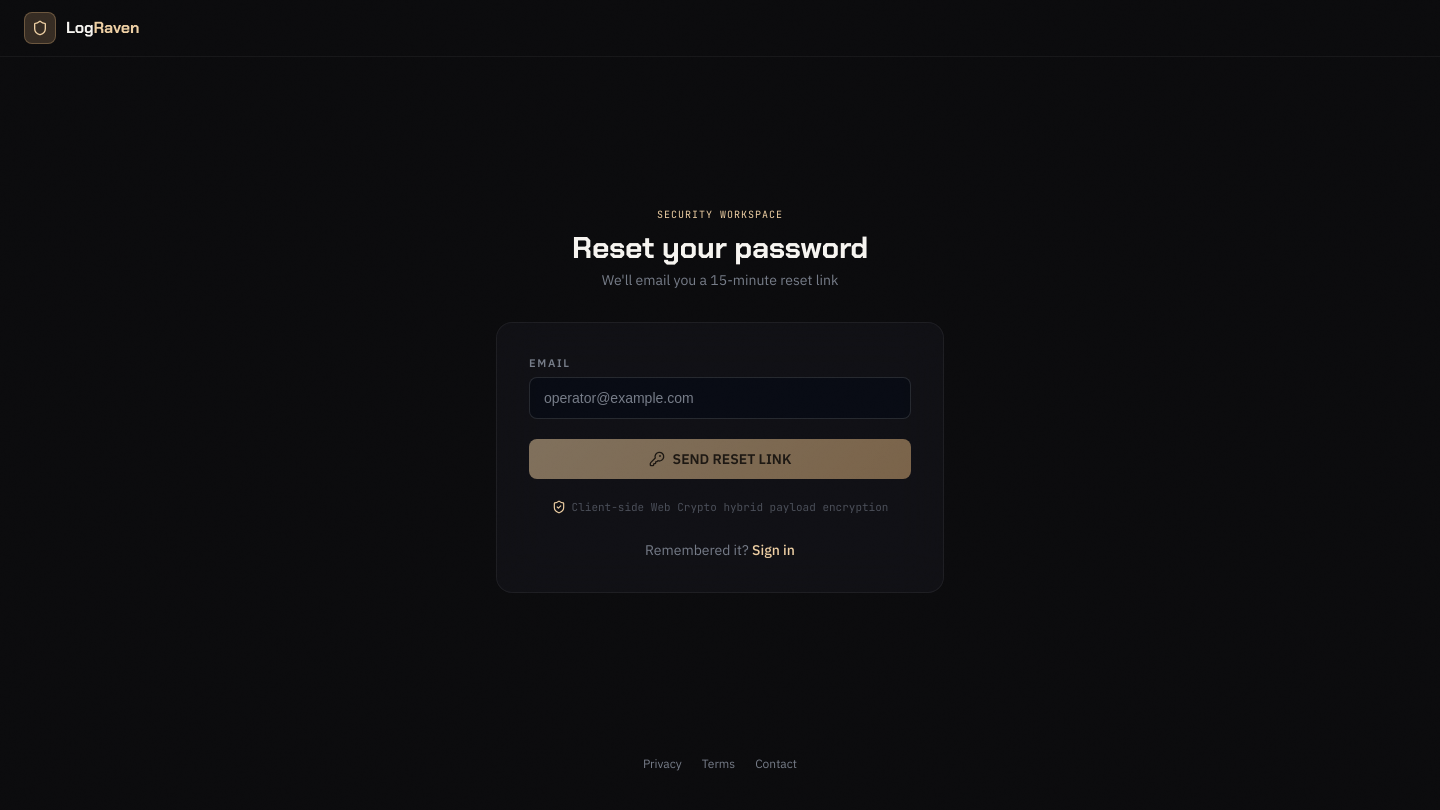
Test: ForgotPassword › rejects multiple recipients / comma-separated input
In the field labelled "Email": (720, 398) [529,377,911,419], type "alice@test.com,hacker@evil.com"
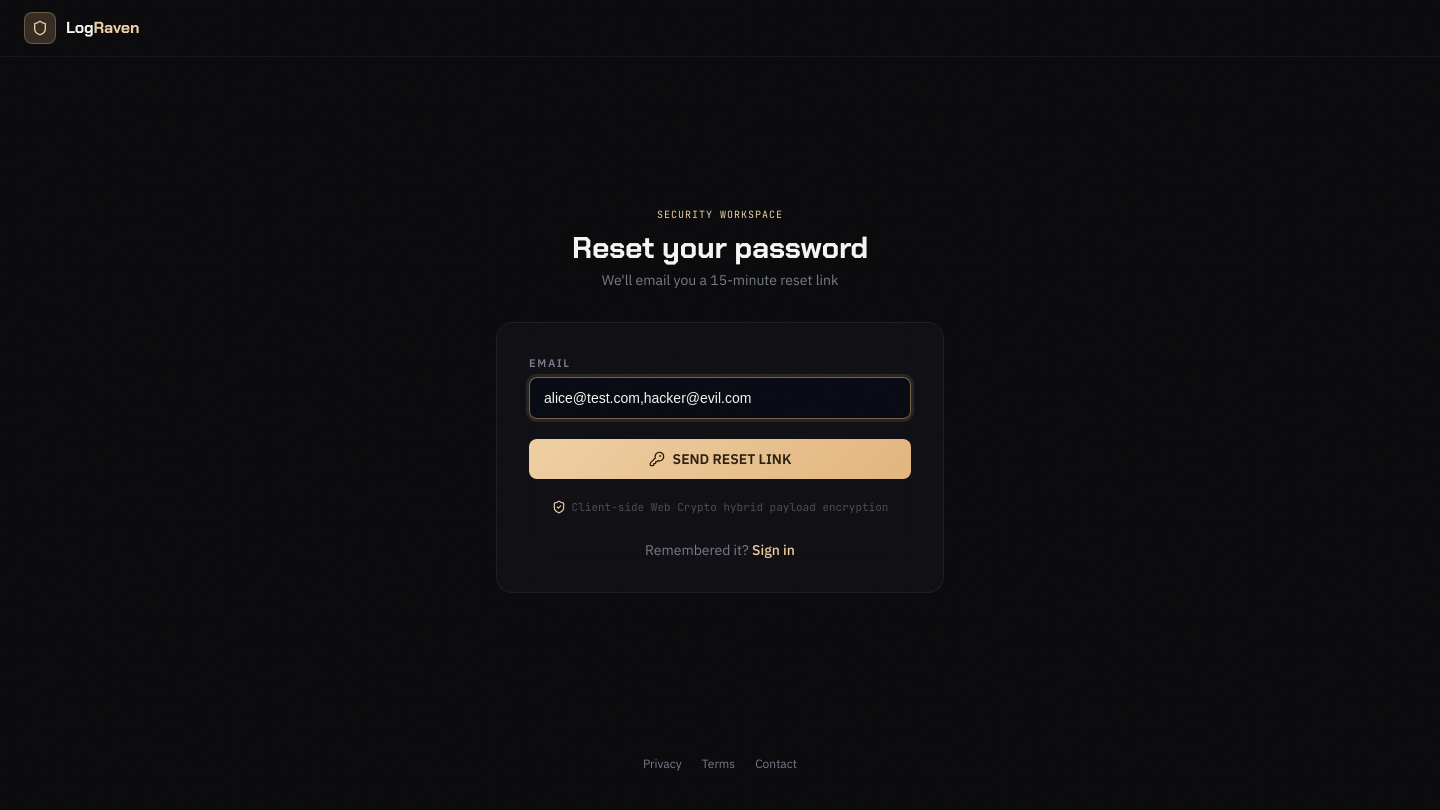
Click the button "Send reset link": (720, 459) [529,439,911,479]
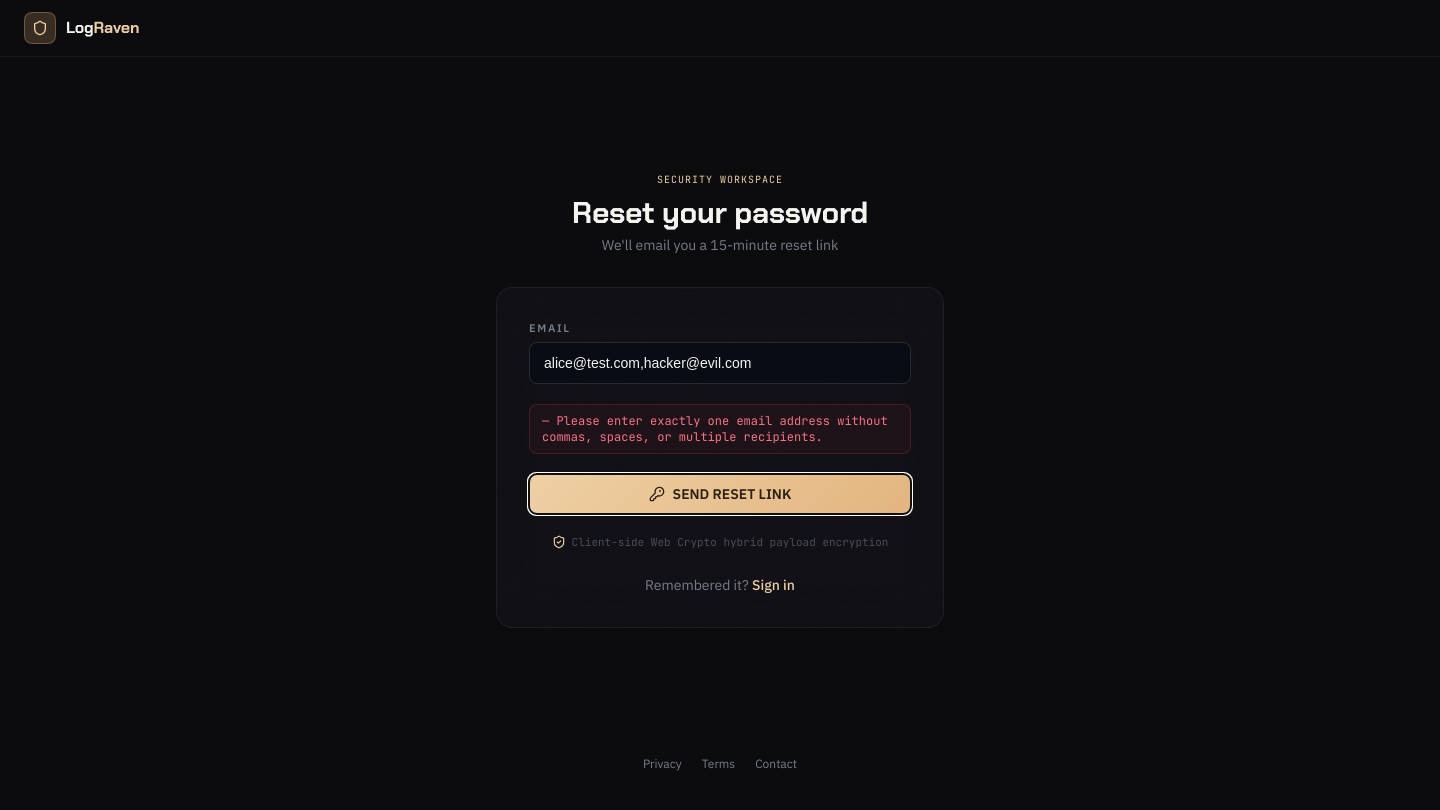
Check: the text "Please enter exactly one email address without commas" is shown, box [542,413,888,445]
